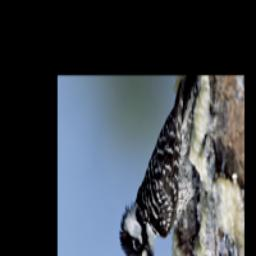Woodpecker: (118, 80, 221, 256)
